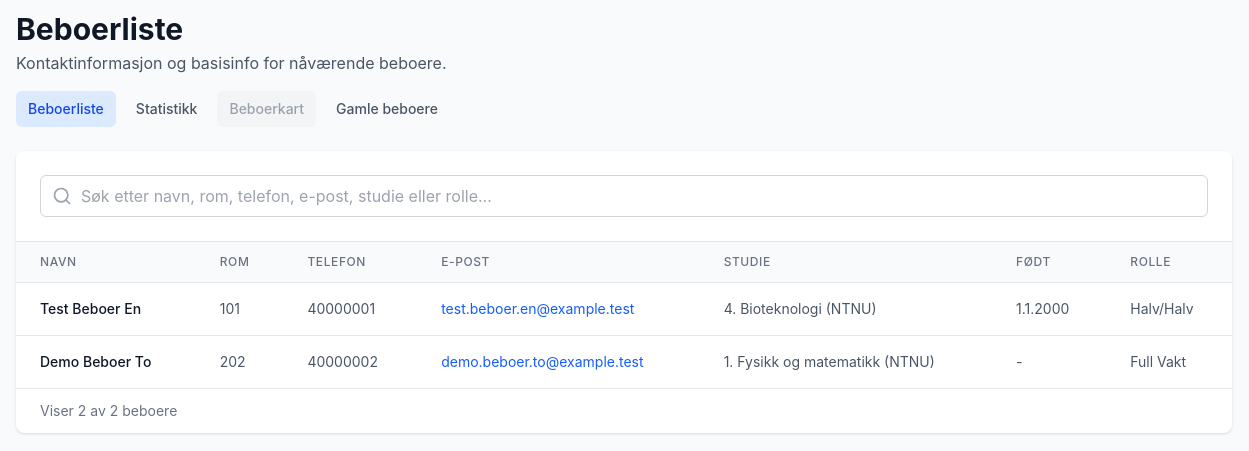
Test case: ResidentDirectoryPage › filters current residents by search query
The image size is (1249, 451).
expect the text "Test Beboer En" is shown: met, box [16,282,196,336]
In the field with placeholder "Søk etter navn, rom, telefon, e-post, studie eller rolle...": [624, 196] box [40,175,1208,217], type "Fysikk"
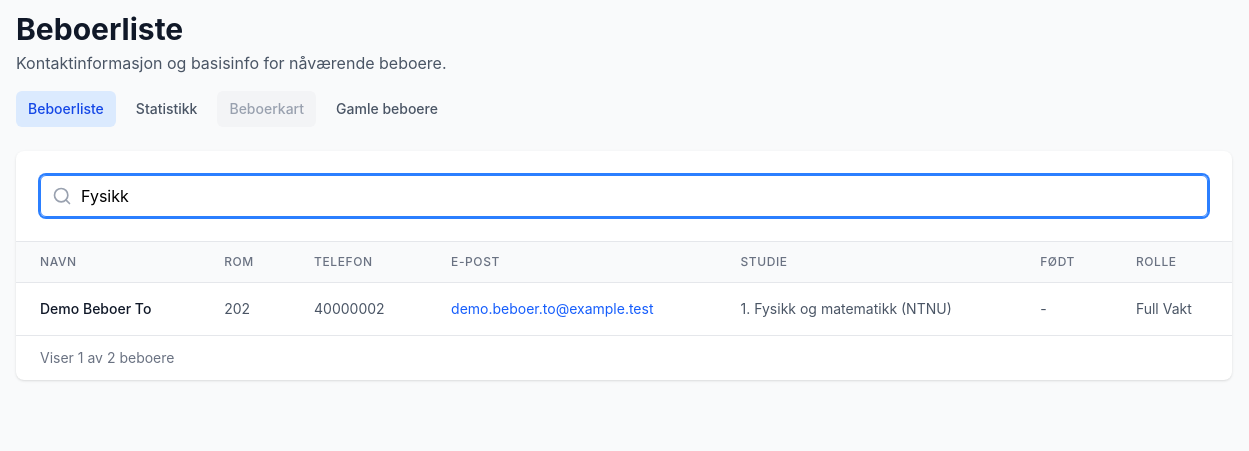
expect the text "Demo Beboer To" is shown: met, box [16,282,200,335]
expect the text "Test Beboer En" is gone: met
